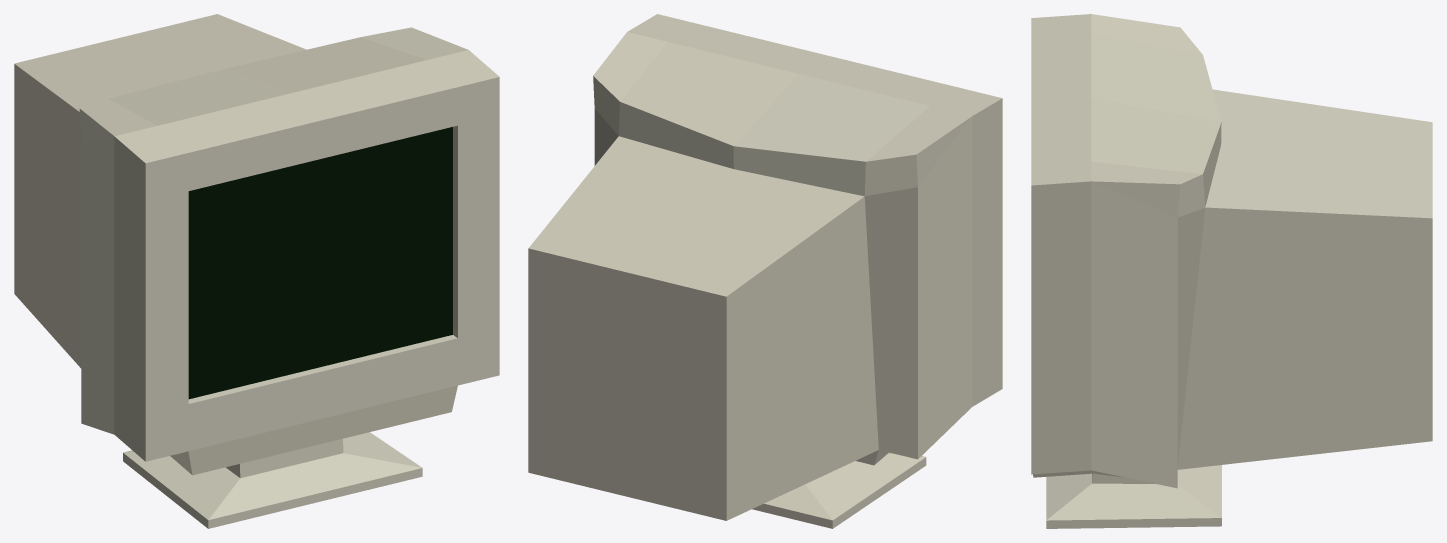
The model's file is crt.glb.
3 views of the same model, side by side, from view 1: azimuth 30°, elevation 25°; view 2: azimuth 150°, elevation 25°; view 3: azimuth 270°, elevation 25° (orthographic). The views are drawn at different scales.
Parts seen in each view (by area): view 1: Cube; view 2: Cube; view 3: Cube.
Part boxes in pixels (x1=…): Cube: x1=14, y1=14, x2=499, y2=528; Cube: x1=528, y1=14, x2=1002, y2=528; Cube: x1=1031, y1=14, x2=1432, y2=528.
Bounding box in the file's own units: 4.24 × 4.5 × 4.3.
